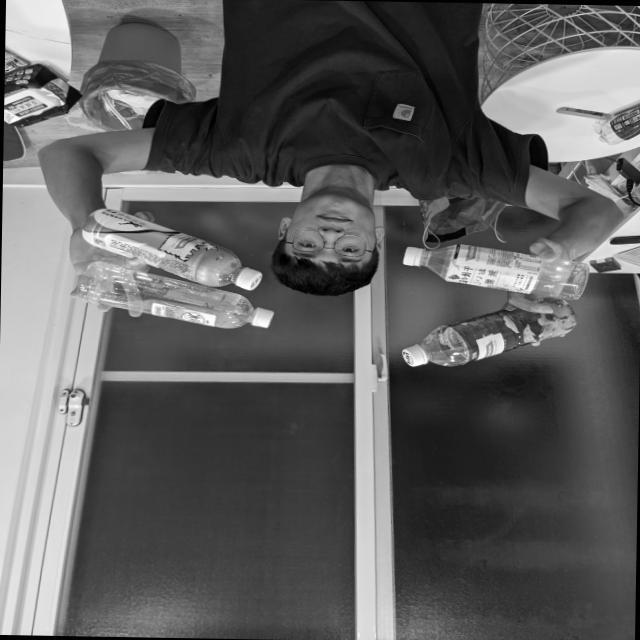good: (76, 201, 258, 290), (394, 301, 591, 378), (65, 267, 280, 333), (407, 232, 592, 304)
